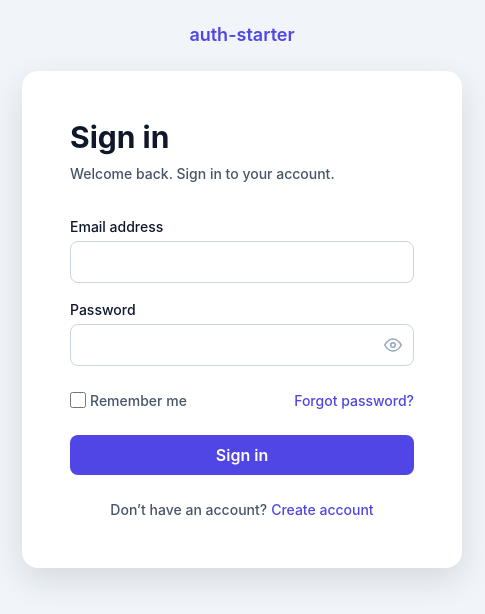
Test: LoginPage › Form validation › clears password error when user starts typing in password field
In the field labelled "Email address": (242,262) [70,240,414,282], type "test@example.com"
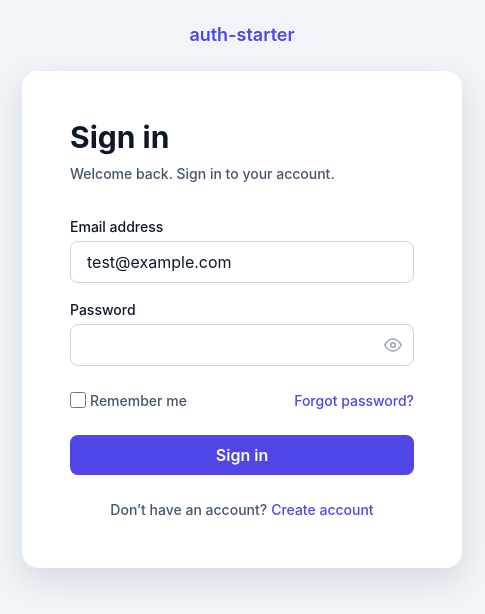
Submit the form
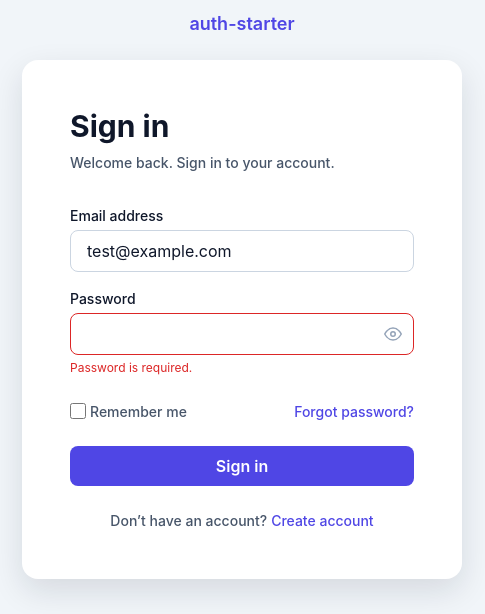
Check: the text "Password is required." is shown, box [70,360,192,374]
In the password field labelled "Password": (242,334) [70,312,414,354], type "p"
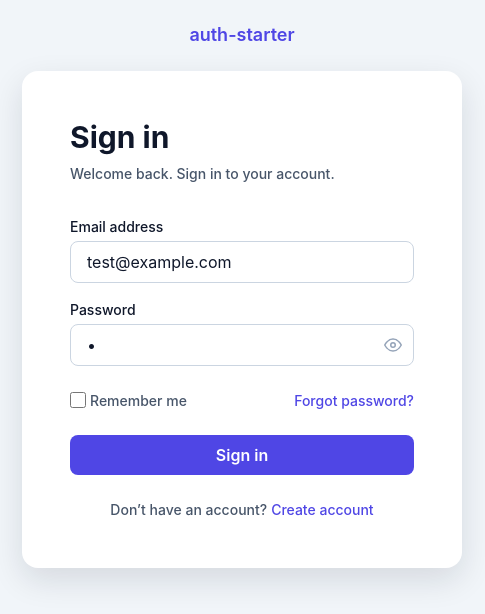
Check: the text "Password is required." is gone
